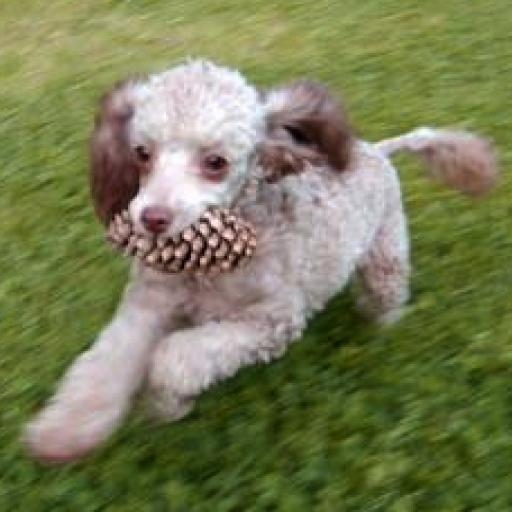dog_face: (82, 70, 354, 269)
